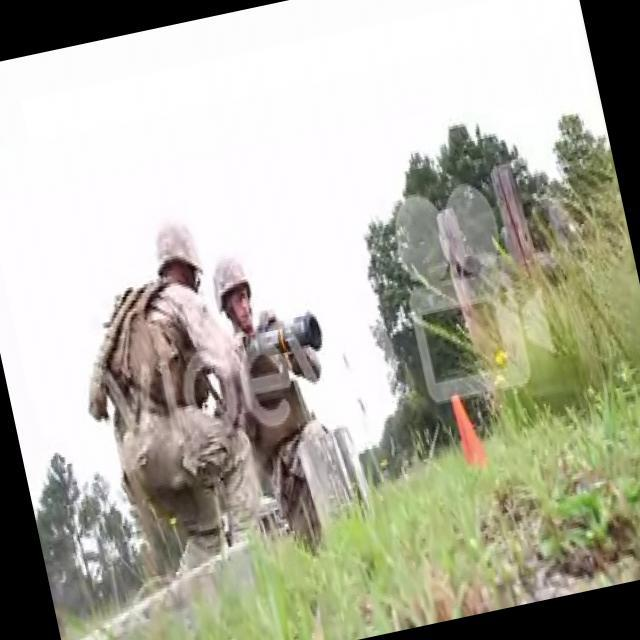rocket: (239, 309, 323, 366)
